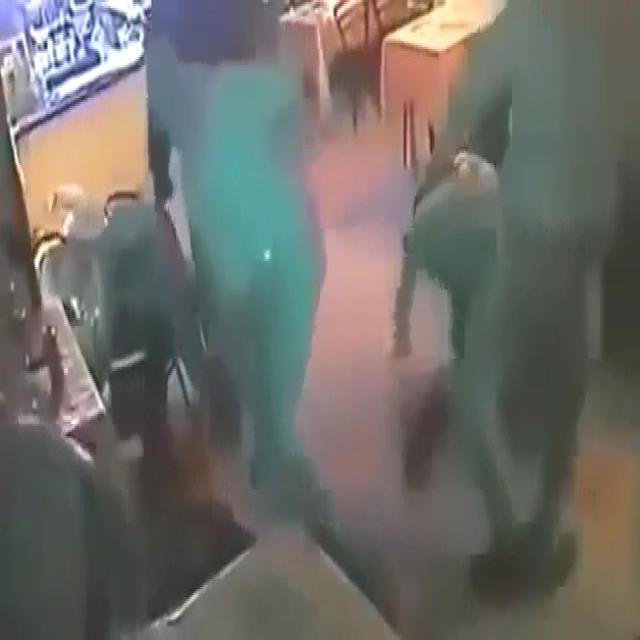fight: (121, 0, 355, 545), (401, 11, 624, 528)
